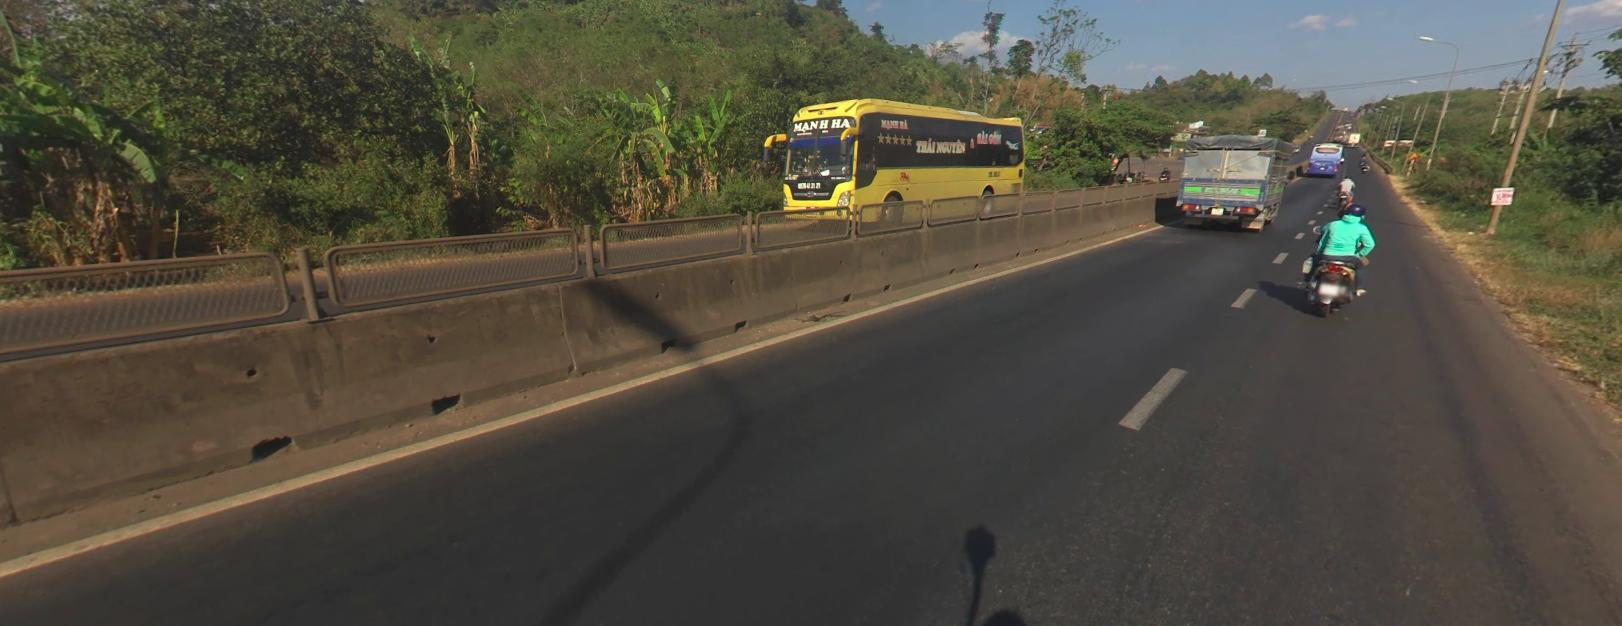Nguy hiem: (1406, 150, 1418, 160)
